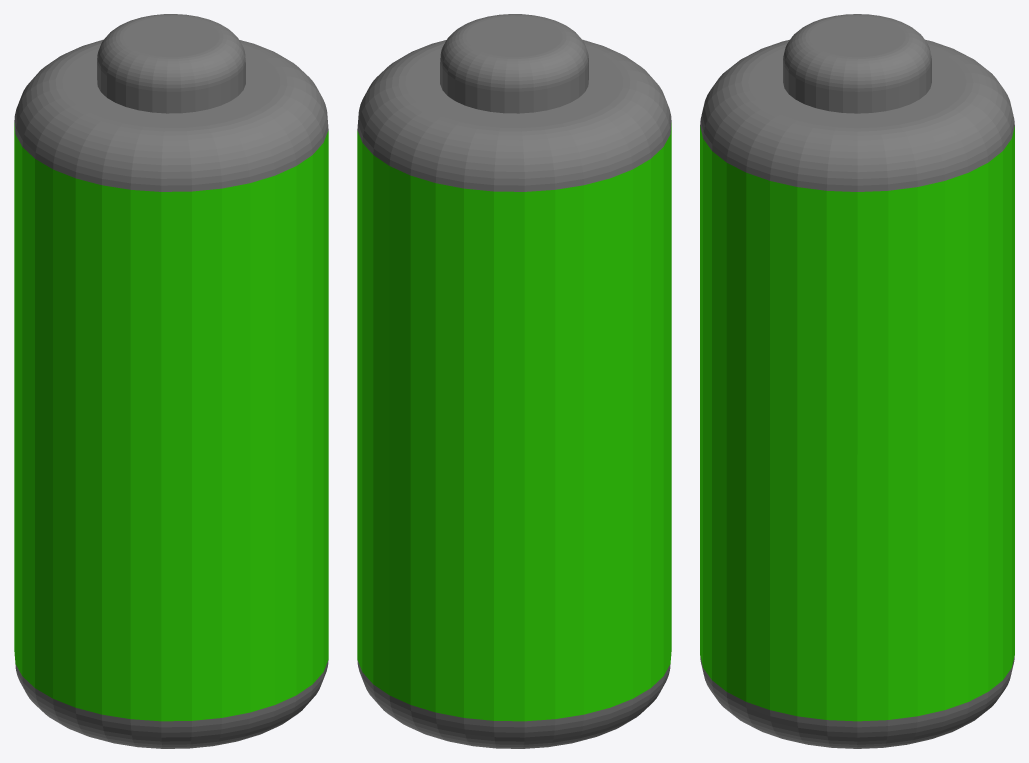
The model's file is BatteryBonus.fbx.
The picture shows the model from 3 angles, left to right: view 1: azimuth 30°, elevation 25°; view 2: azimuth 150°, elevation 25°; view 3: azimuth 270°, elevation 25°; orthographic projection.
Parts seen in each view (by area): view 1: Cylinder; view 2: Cylinder; view 3: Cylinder.
Part boxes in pixels (box(x1,y1,x2,y2)): Cylinder: box(14, 14, 328, 748); Cylinder: box(357, 14, 671, 748); Cylinder: box(700, 14, 1014, 748).
Size of the model in its own units: 270 by 626 by 270.
